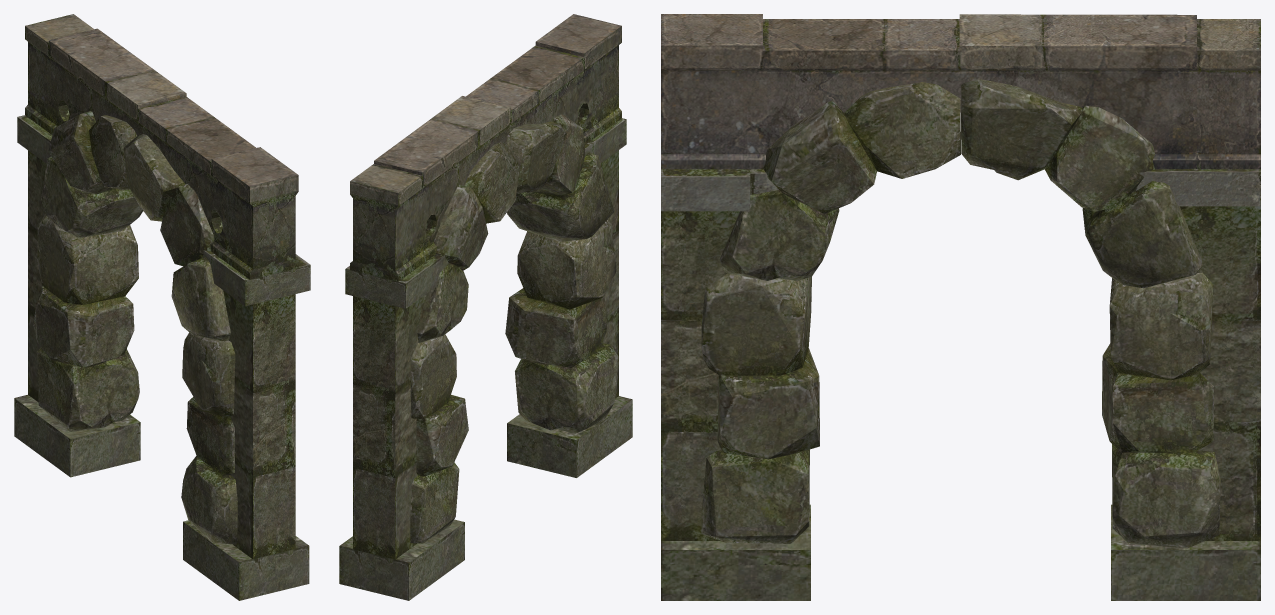
File: bg_lut_lutomb_wallarch01_sm_old.FBX
3 views of the same model, side by side, from view 1: azimuth 30°, elevation 25°; view 2: azimuth 150°, elevation 25°; view 3: azimuth 270°, elevation 25° (orthographic). The views are drawn at different scales.
Visible parts, largest first — view 1: bg_lut_lutomb_wallarch01_sm_old; view 2: bg_lut_lutomb_wallarch01_sm_old; view 3: bg_lut_lutomb_wallarch01_sm_old.
Part boxes in pixels (x1=…): bg_lut_lutomb_wallarch01_sm_old: x1=14, y1=14, x2=310, y2=600; bg_lut_lutomb_wallarch01_sm_old: x1=339, y1=14, x2=632, y2=600; bg_lut_lutomb_wallarch01_sm_old: x1=661, y1=14, x2=1260, y2=600.
Size of the model in its own units: 109 by 517 by 512.
